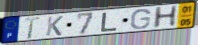7: (76, 11, 95, 36)
G: (129, 8, 153, 30)
H: (152, 5, 180, 30)
K: (44, 15, 64, 37)
L: (100, 12, 120, 33)
T: (24, 16, 42, 40)
